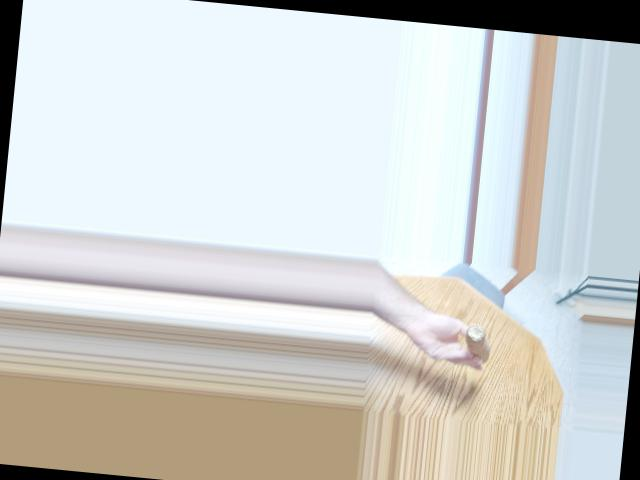sweet_potato: (456, 317, 494, 365)
